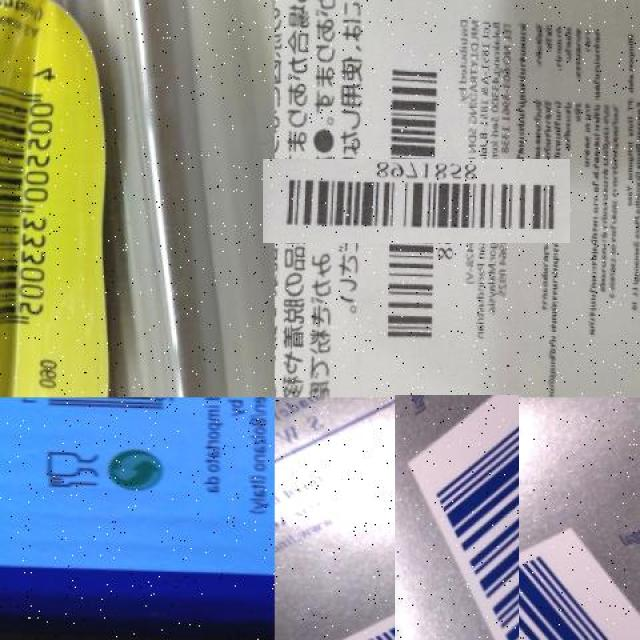Barcode: (334, 455, 579, 640), (318, 102, 514, 298), (0, 58, 75, 342)
